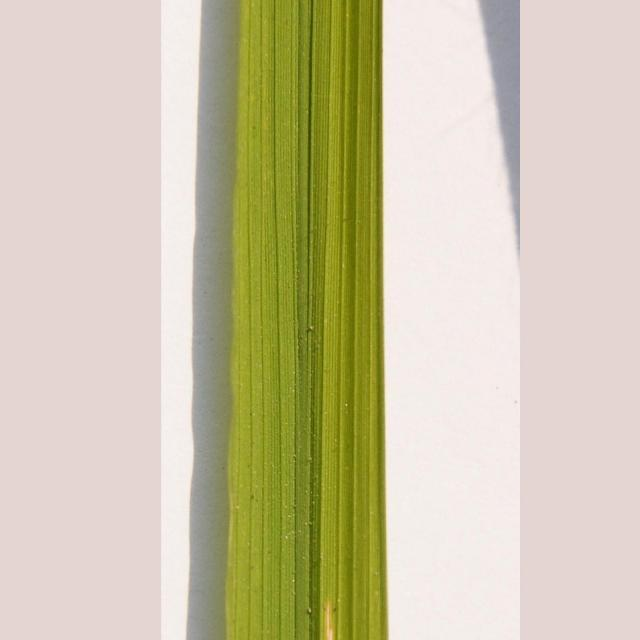leaf blight: (312, 587, 350, 640)
